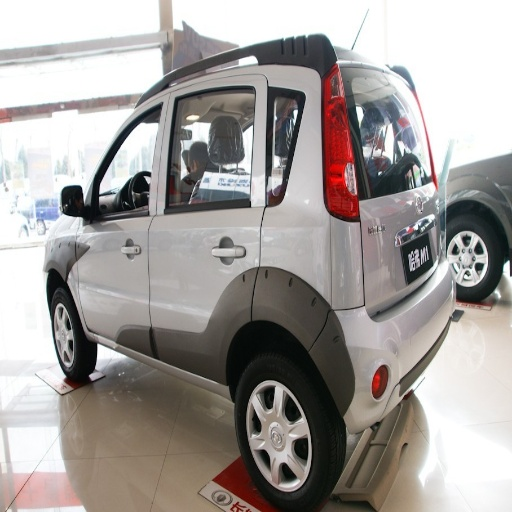back_bumper: (388, 273, 451, 337), (340, 444, 381, 496)
back_left_door: (148, 78, 263, 379)
trunk: (359, 109, 510, 311)
